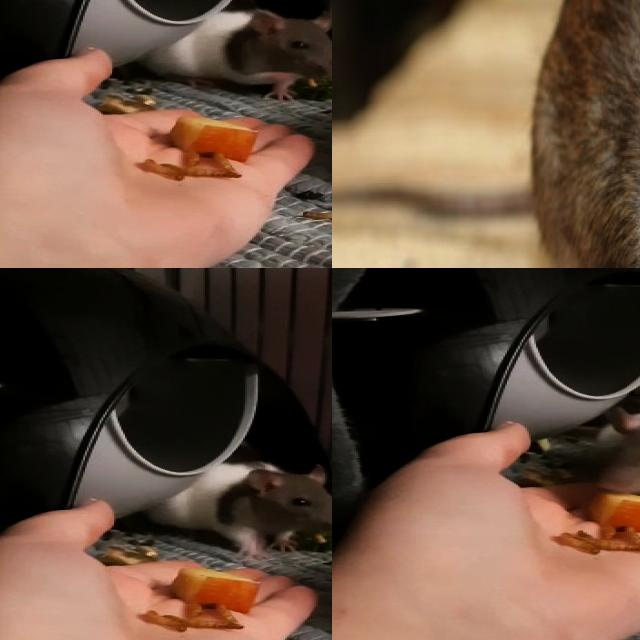rat: (515, 0, 640, 268), (139, 457, 332, 560), (147, 12, 332, 101), (574, 403, 640, 517)
